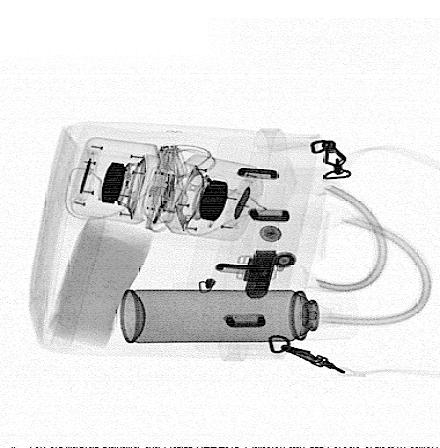Sprayer: (118, 288, 361, 345)
